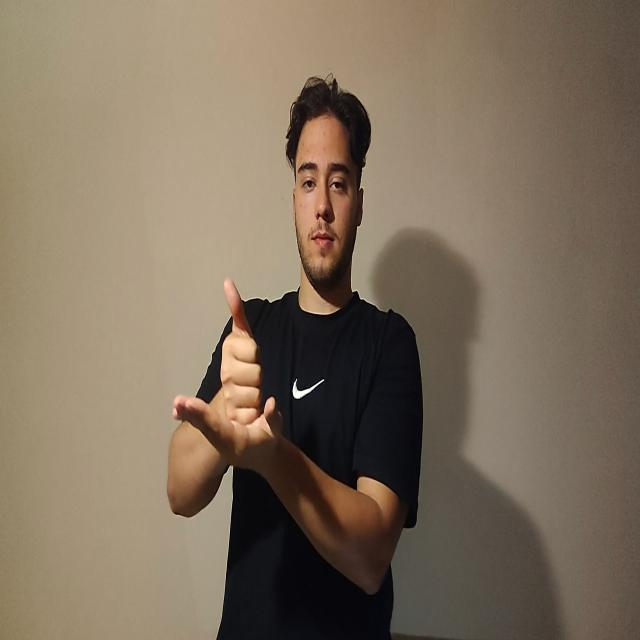help: (168, 277, 284, 469)
